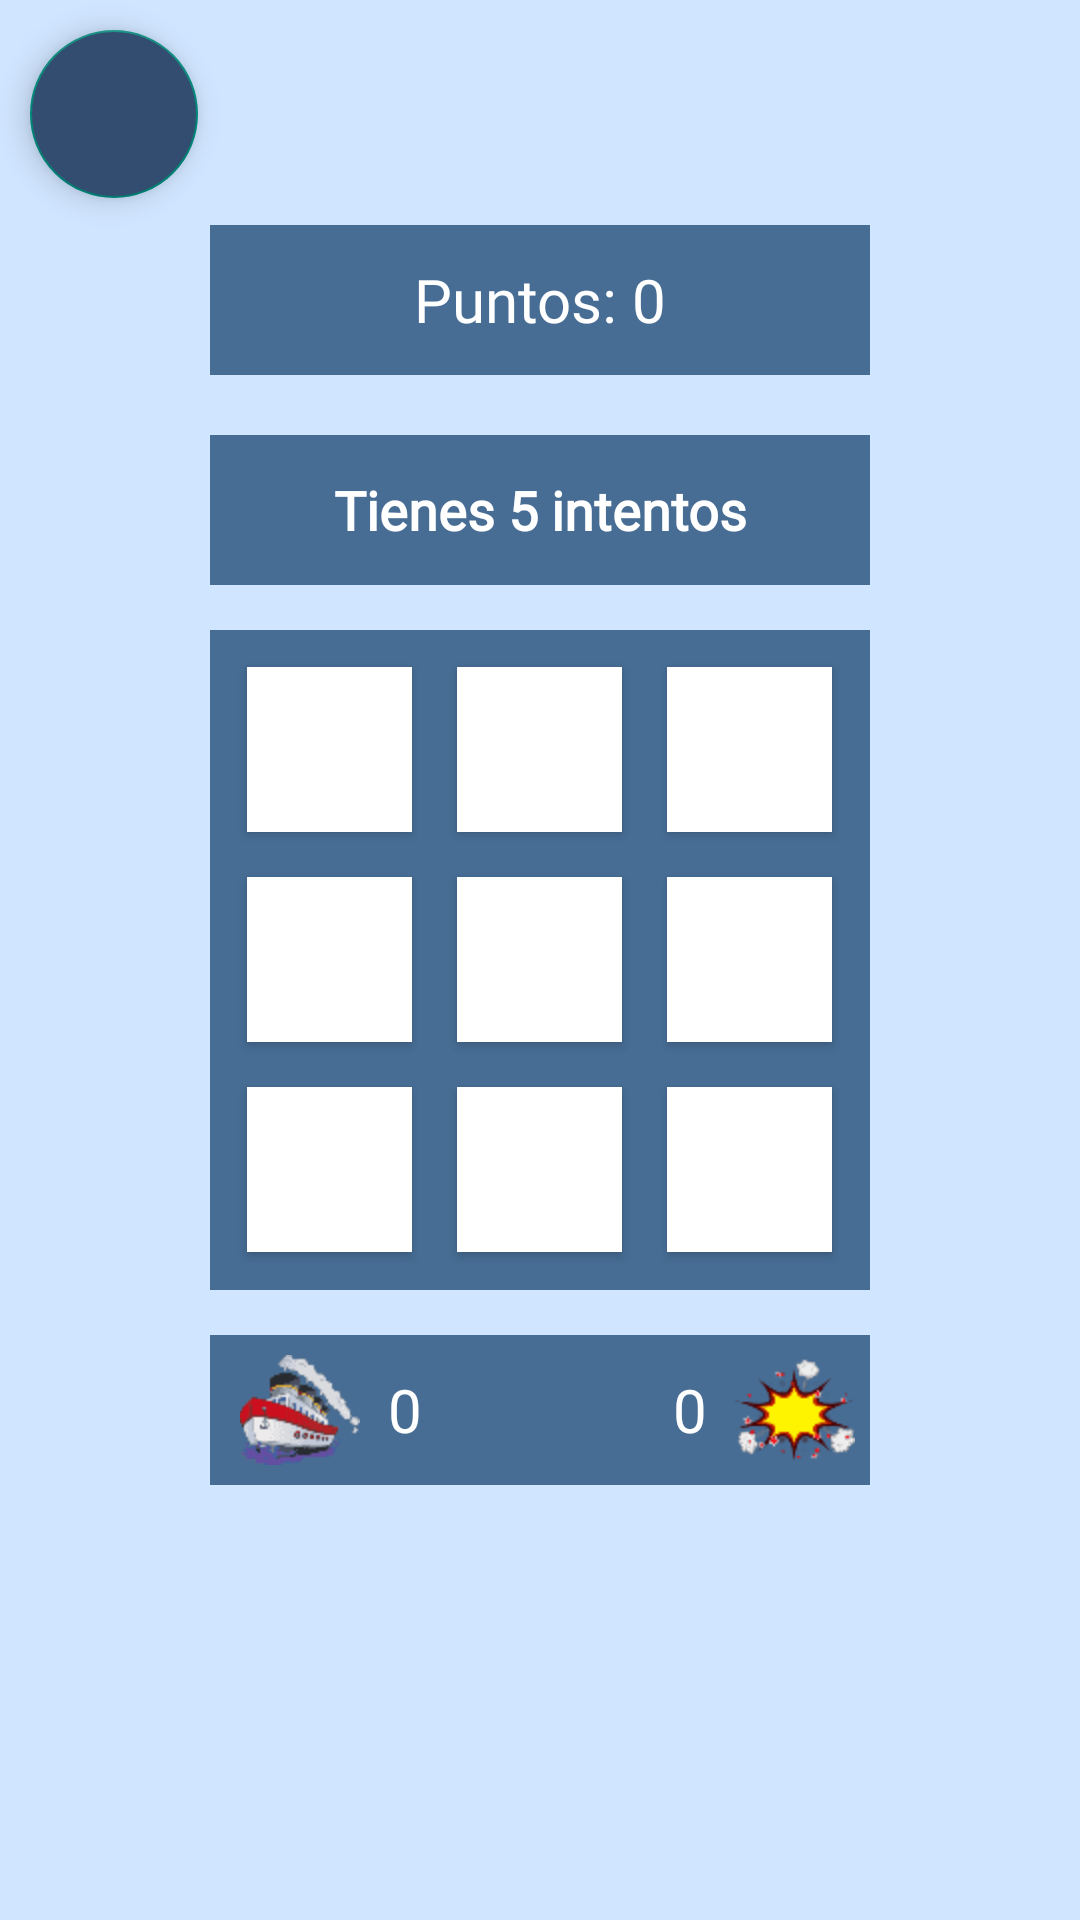

Screen size 1080×1920. Icon name, then its center in pixels as (x=x, y=y):
barco: (x=300, y=1410)
explosion: (x=796, y=1409)
